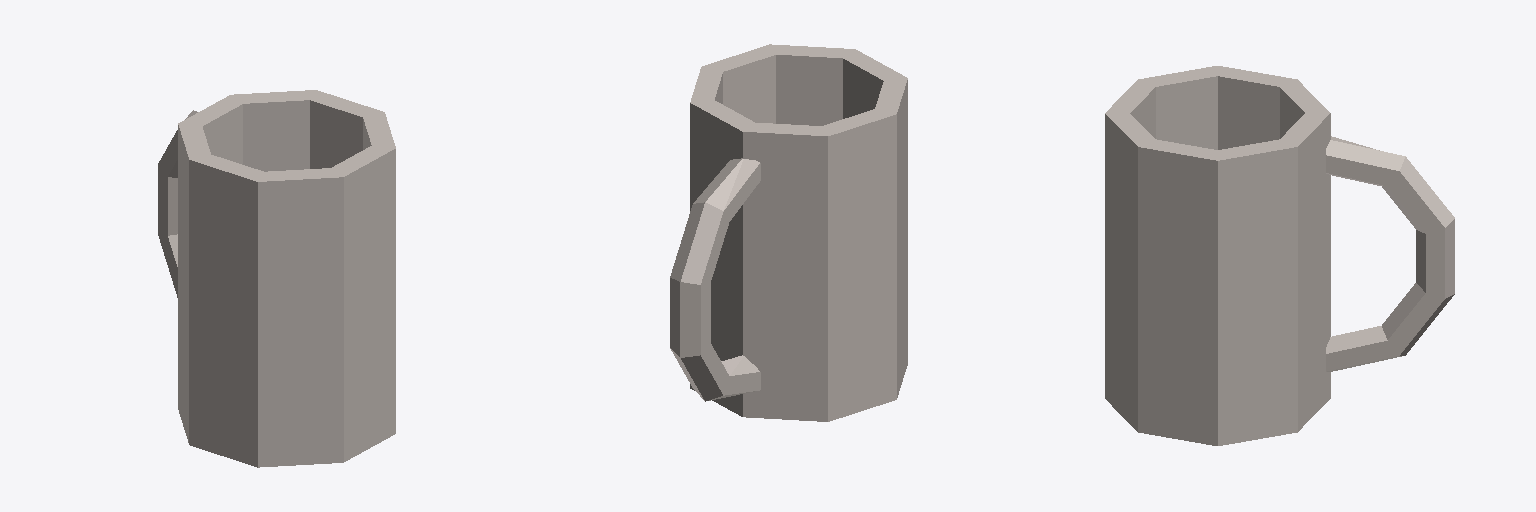
The model's file is mug.obj.
3 views of the same model, side by side, from view 1: azimuth 30°, elevation 25°; view 2: azimuth 150°, elevation 25°; view 3: azimuth 270°, elevation 25° (orthographic).
Parts seen in each view (by area): view 1: Cylinder; view 2: Cylinder; view 3: Cylinder.
Part boxes in pixels (x1,y1,x2,y2): Cylinder: (158,90,395,467); Cylinder: (670,44,907,421); Cylinder: (1105,66,1454,445).
Size of the model in its own units: 0.3458 by 0.4829 by 0.5365.